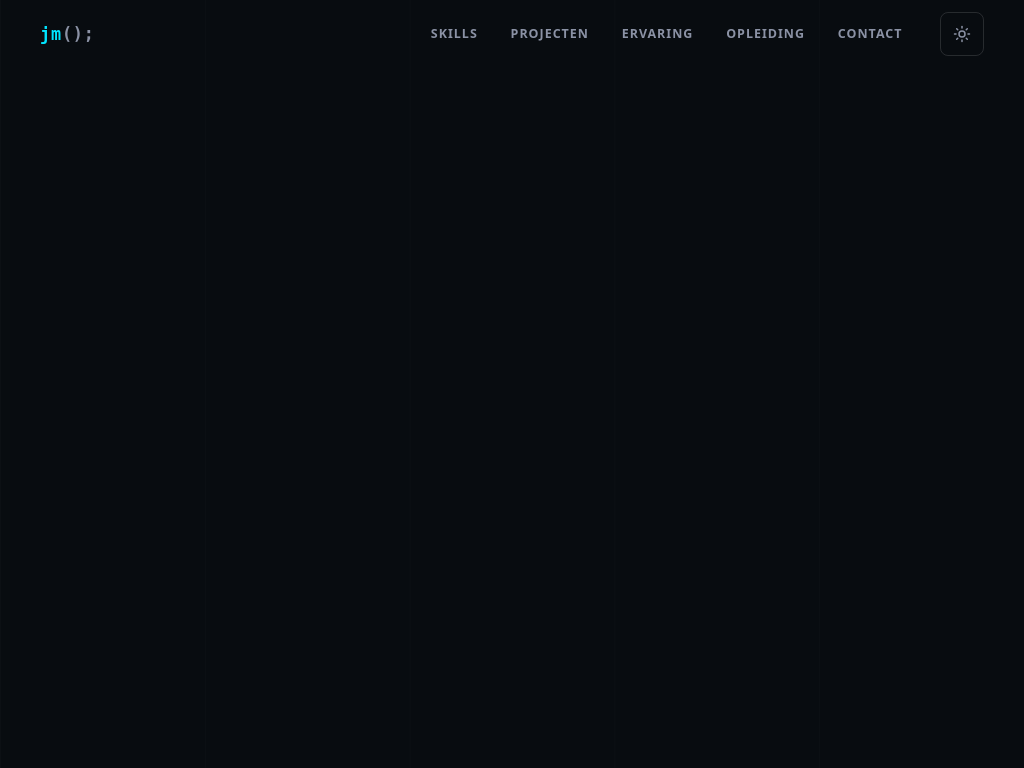
Test: Navbar › wisselt het thema via de themaknop
Click the button named "Schakel over naar licht thema". click: (962, 34)
box: [940, 12, 984, 56]
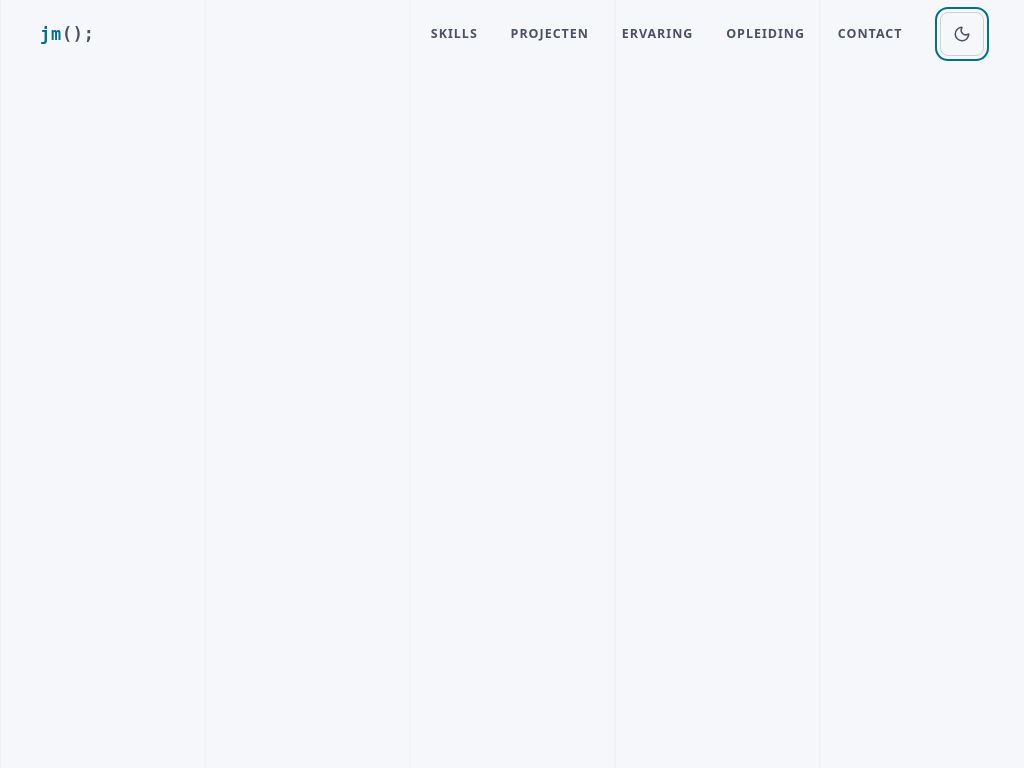
Check: the button named "Schakel over naar donker thema" is shown, box [940, 12, 984, 56]
